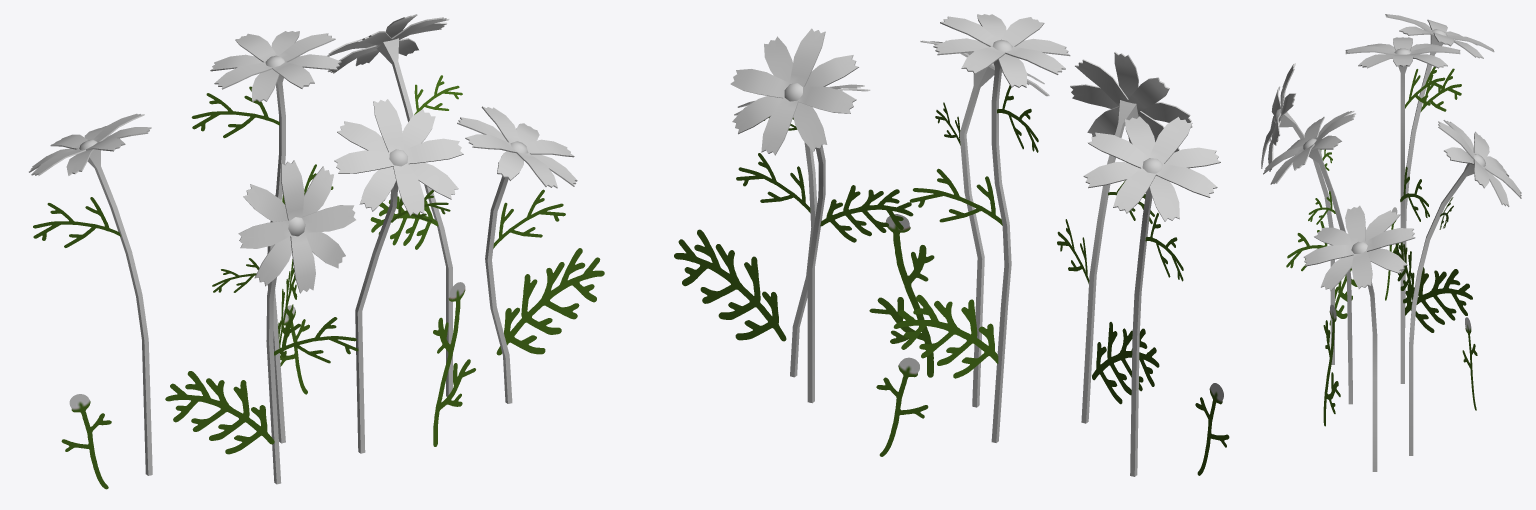
File: Prefab_Flower_White_Autumn.fbx
3 views of the same model, side by side, from view 1: azimuth 30°, elevation 25°; view 2: azimuth 150°, elevation 25°; view 3: azimuth 270°, elevation 25° (orthographic). The views are drawn at different scales.
Parts seen in each view (by area): view 1: Flower_White_Autumn; view 2: Flower_White_Autumn; view 3: Flower_White_Autumn.
Part boxes in pixels (x1,y1,x2,y2): Flower_White_Autumn: (29,14,604,489); Flower_White_Autumn: (674,14,1229,476); Flower_White_Autumn: (1261,14,1521,471).
Size of the model in its own units: 96.29 by 65.1 by 44.94.
